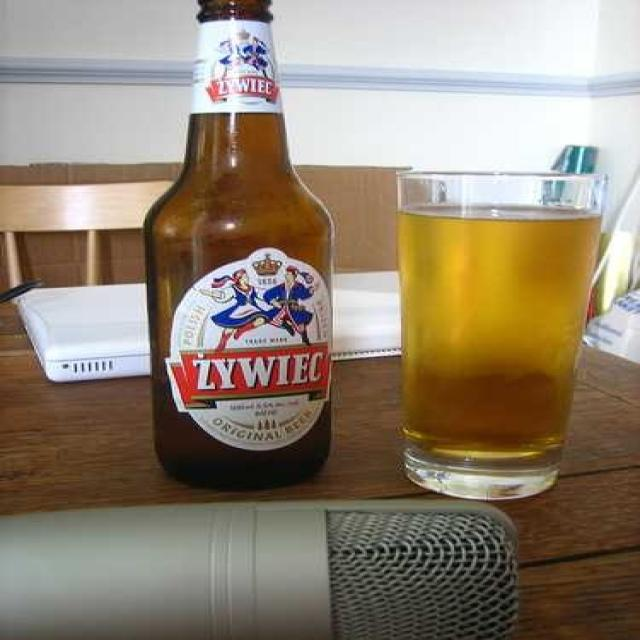microphone: (2, 498, 510, 636)
